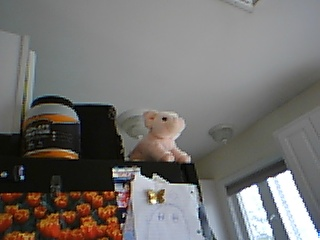piggy: (126, 109, 193, 163)
